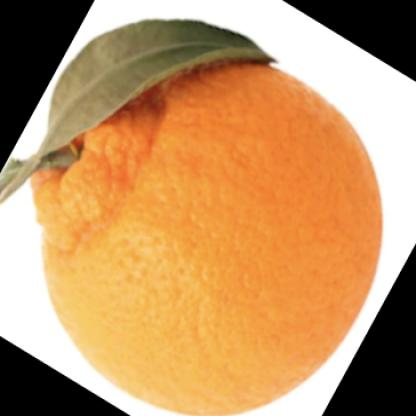fresh: (35, 33, 382, 416)
